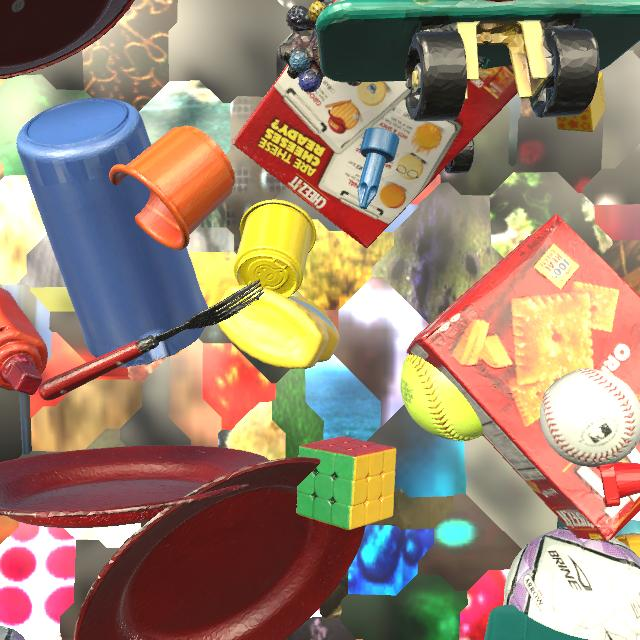ycb_003_cracker_box: (406, 214, 640, 541), (232, 0, 518, 248)
ycb_006_mustard_bottle: (218, 285, 340, 369)
